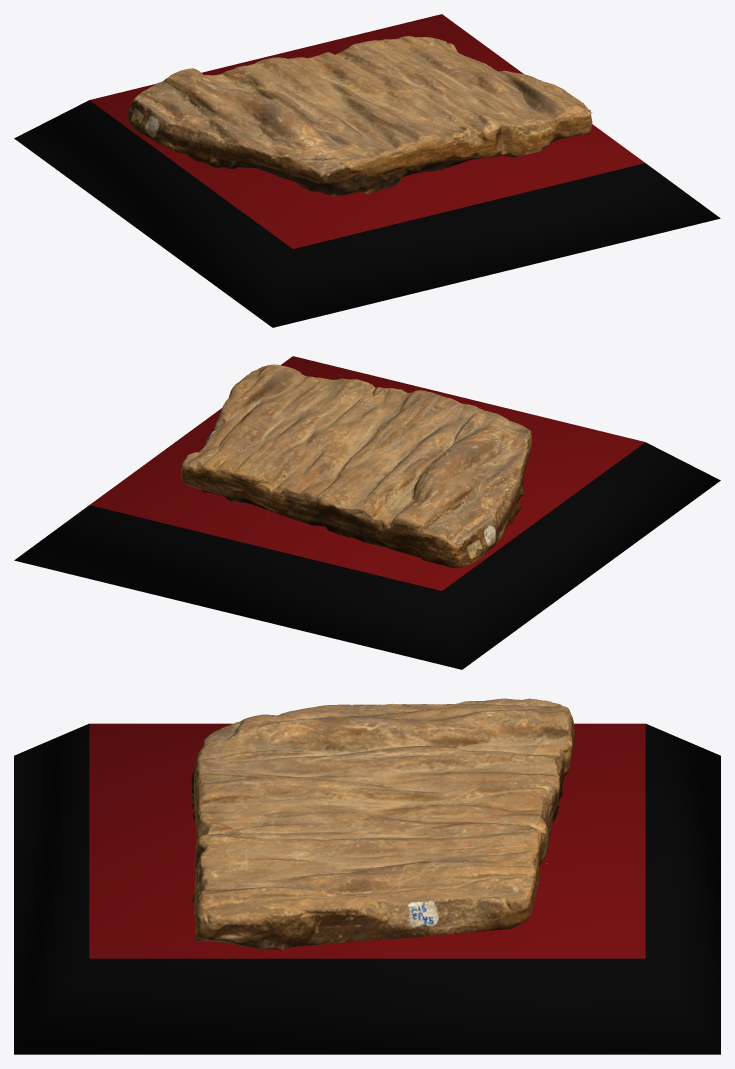
Rendered from Arenisca.glb.
3 views of the same model, one above another, from view 1: azimuth 30°, elevation 25°; view 2: azimuth 150°, elevation 25°; view 3: azimuth 270°, elevation 25° (orthographic). The views are drawn at different scales.
Parts seen in each view (by area): view 1: texturedMesh; view 2: texturedMesh; view 3: texturedMesh.
Part boxes in pixels (x1,y1,x2,y2): texturedMesh: (14,14,720,327); texturedMesh: (14,356,720,669); texturedMesh: (14,698,720,1054).
Size of the model in its own units: 10 by 1.98 by 10.
5 materials, 3 textured.
